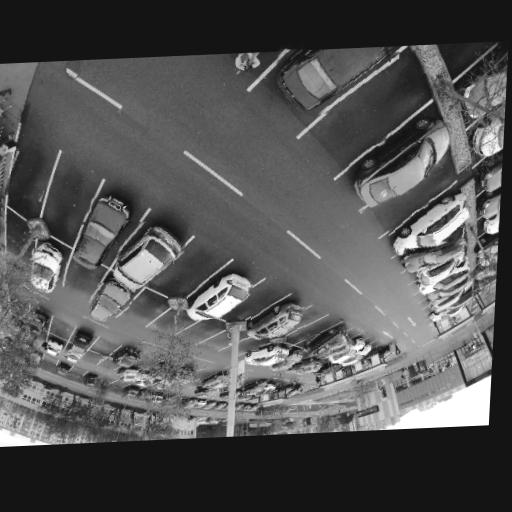busy: (346, 121, 457, 215), (272, 46, 400, 119), (114, 220, 187, 291), (75, 194, 139, 273), (386, 200, 473, 254), (186, 272, 255, 320), (401, 236, 468, 274), (26, 243, 70, 295), (250, 301, 308, 338), (87, 282, 135, 325), (417, 253, 473, 288), (427, 272, 475, 299), (305, 328, 349, 357), (246, 342, 292, 367), (328, 338, 370, 362), (271, 348, 304, 371), (289, 354, 325, 375), (112, 345, 144, 367), (241, 377, 274, 396), (200, 370, 230, 390), (71, 331, 95, 351), (118, 366, 144, 383), (45, 337, 65, 354), (83, 372, 103, 388), (57, 362, 73, 375)
free: (328, 99, 393, 147), (7, 151, 52, 201), (49, 181, 92, 218), (386, 189, 431, 216), (170, 260, 206, 284), (68, 269, 100, 292), (206, 330, 234, 353), (128, 301, 159, 320), (236, 293, 265, 313), (156, 315, 184, 335), (53, 320, 75, 337), (238, 336, 261, 352), (191, 324, 216, 338), (96, 339, 117, 352), (300, 324, 322, 336), (83, 353, 103, 365)
